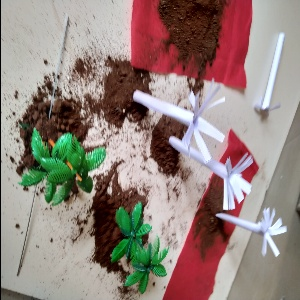plant: (106, 197, 174, 288), (23, 125, 105, 194)
weed: (130, 66, 231, 144), (171, 131, 268, 207), (246, 19, 293, 141), (215, 199, 296, 265)
